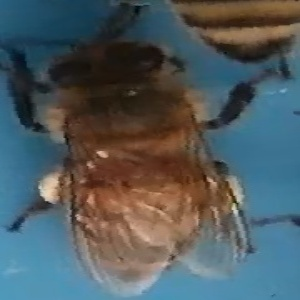bee: (8, 40, 258, 300), (162, 2, 298, 73)
